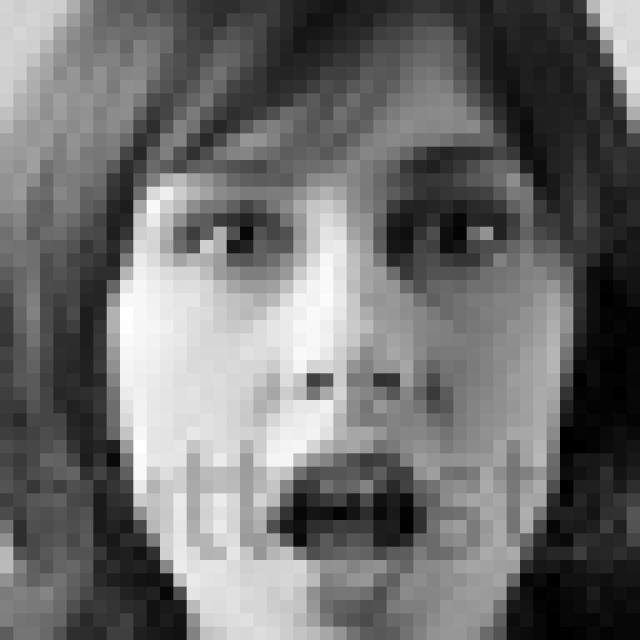surprise: (163, 133, 530, 618)
